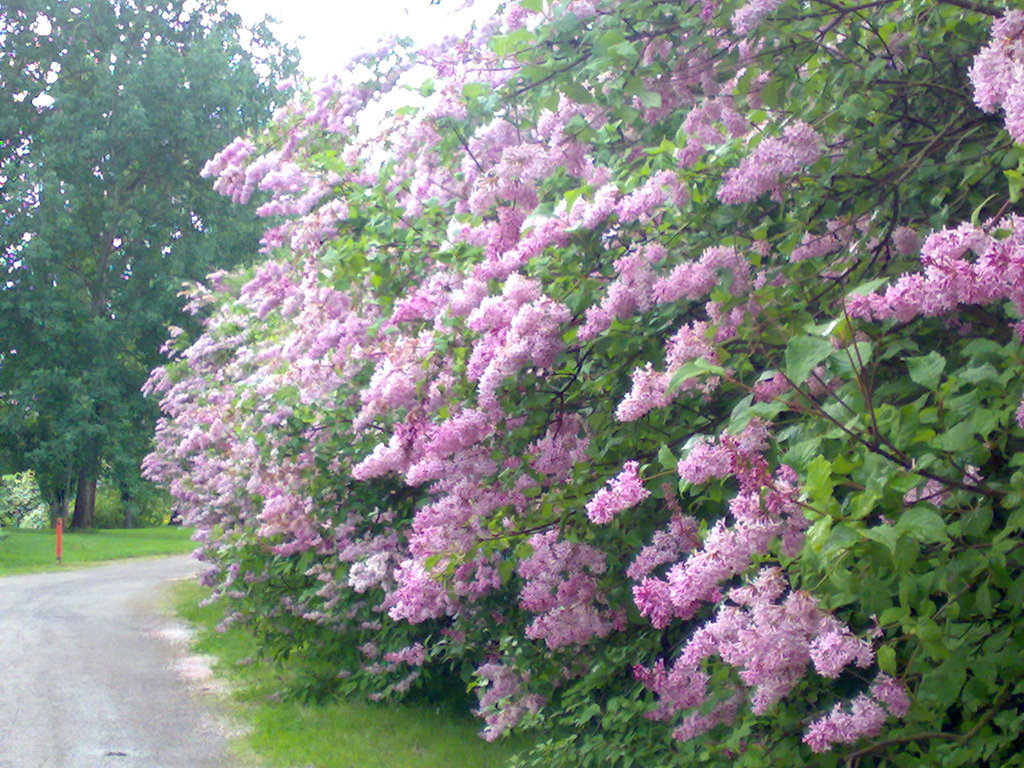Tree: (142, 0, 1024, 768), (0, 0, 312, 533)
